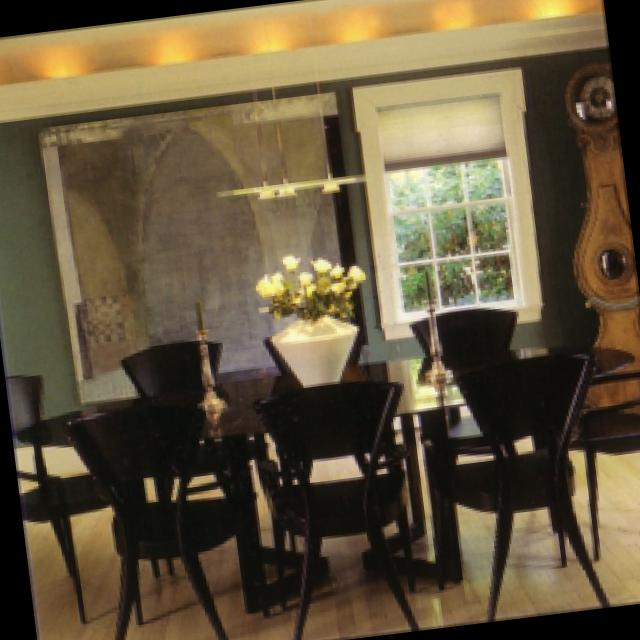2001: (354, 63, 544, 332)
bouquet: (263, 255, 365, 382)
candle holder: (196, 288, 229, 407), (424, 255, 448, 374)
ceiling beam: (0, 0, 608, 117)
ceiling lamps: (220, 94, 378, 199)
chair: (126, 339, 227, 390), (411, 306, 515, 354)
chair -occluded-: (434, 352, 613, 616), (71, 393, 253, 640), (257, 380, 430, 637), (11, 369, 107, 615)
clock crop: (565, 60, 640, 407)
painting crop: (42, 89, 370, 394)
table -X: (21, 339, 629, 442)
